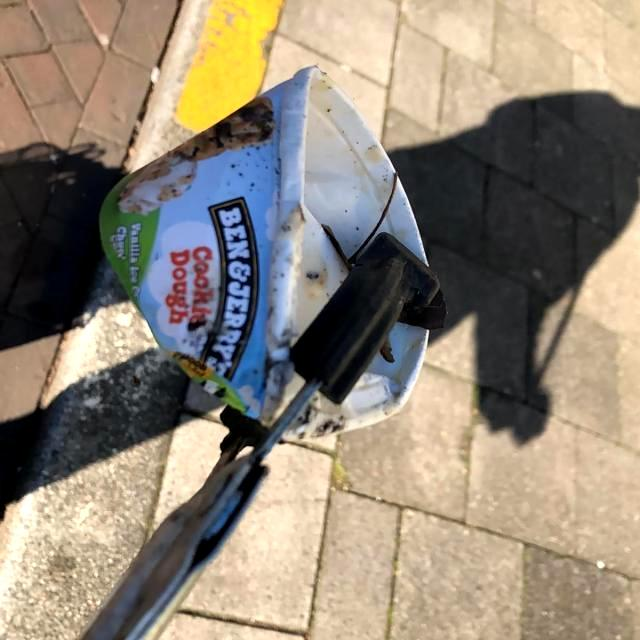Paper: (92, 63, 434, 445)
